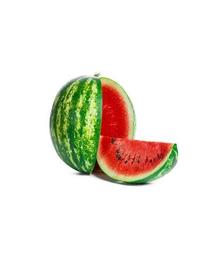watermelon: (52, 75, 180, 185)
